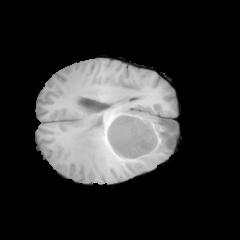glioma: (95, 103, 177, 172)
